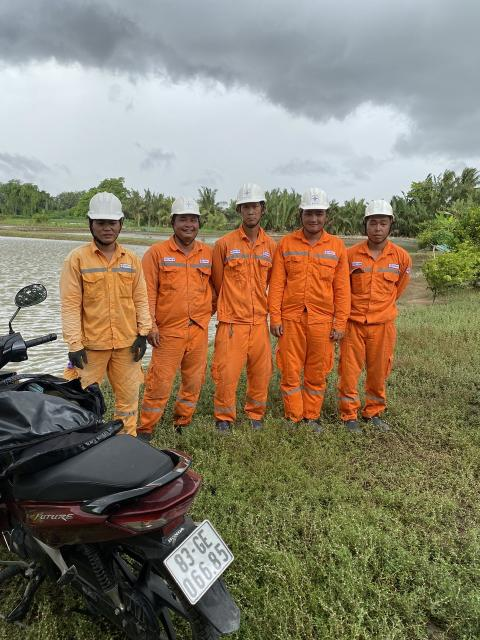gloves: (128, 334, 151, 361), (66, 348, 92, 369)
helmet: (74, 186, 134, 224), (235, 171, 270, 215), (161, 193, 212, 219), (297, 183, 338, 210), (357, 195, 400, 218)
shoes: (303, 413, 330, 439), (242, 407, 266, 434), (340, 413, 364, 437), (364, 414, 391, 435), (211, 416, 234, 437), (281, 415, 298, 435)
